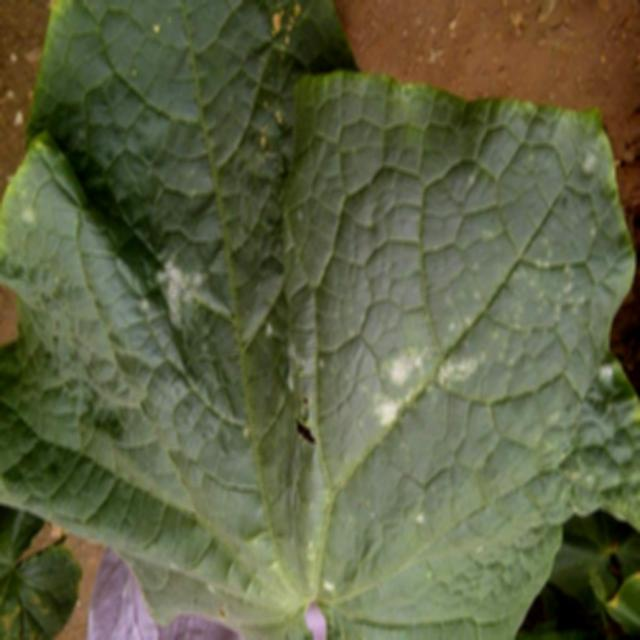Powdery Mildew: (138, 204, 496, 506)
